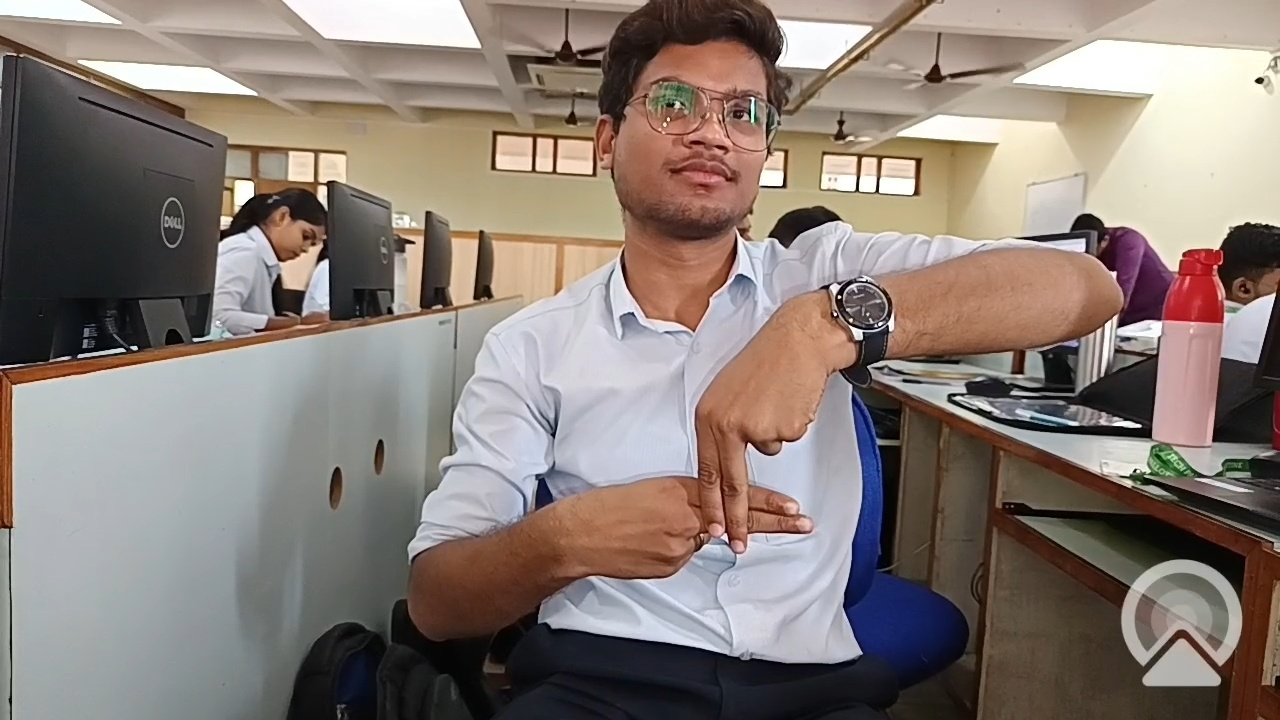F: (571, 307, 885, 575)
